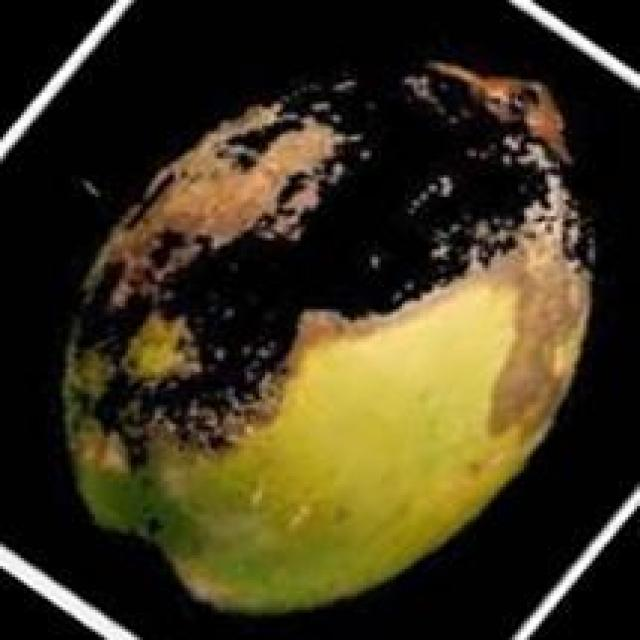damaged: (63, 60, 595, 618)
